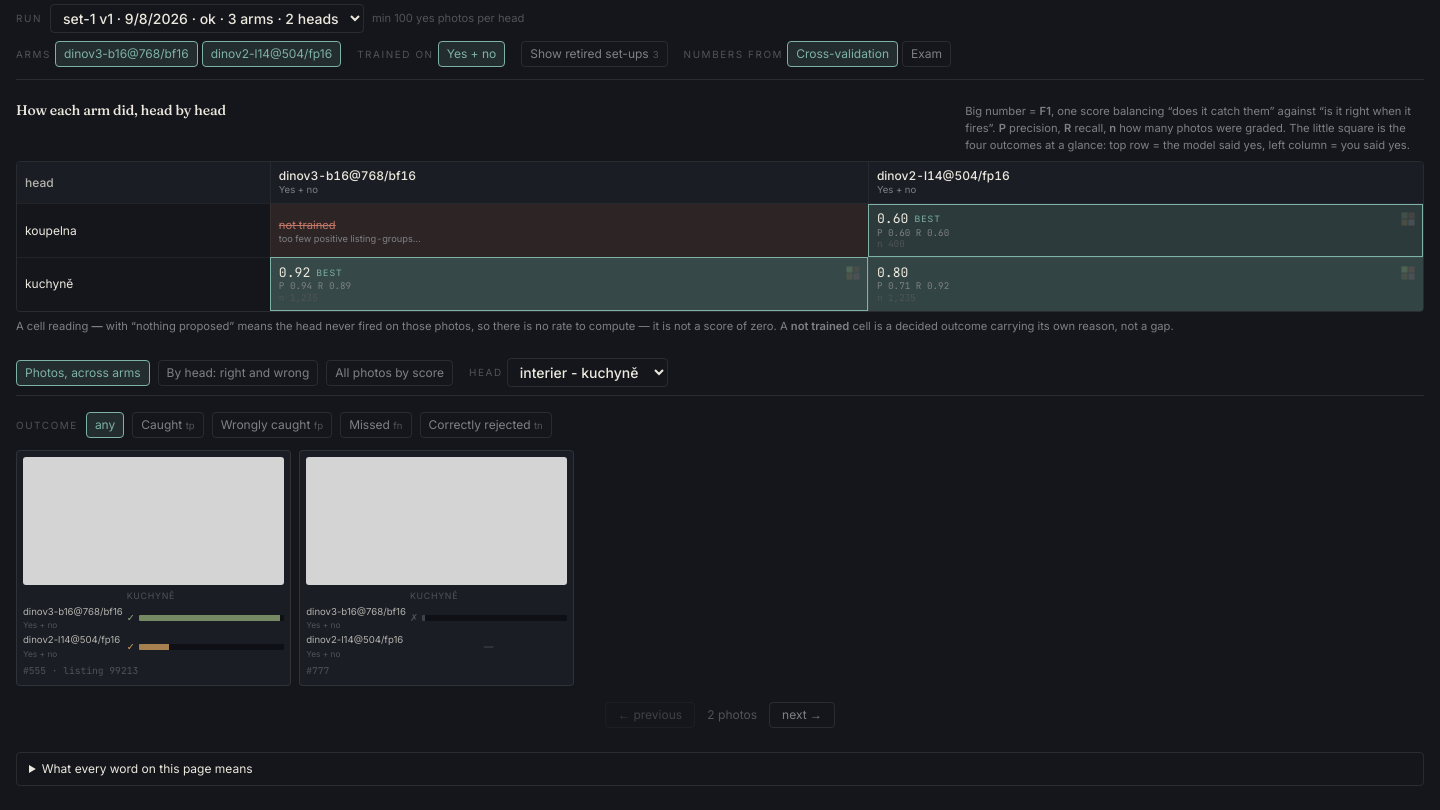
Test: <NewDedupTaggingBakeoff> — view A, photos across arms › pages forward on the cursor the API returns, and back on its own stack
(page scrolled)
Expected: the button with test id "page-prev" is disabled, [605,702,695,728]
Click the button with test id "page-next" at (802, 715), box [769,702,835,728]
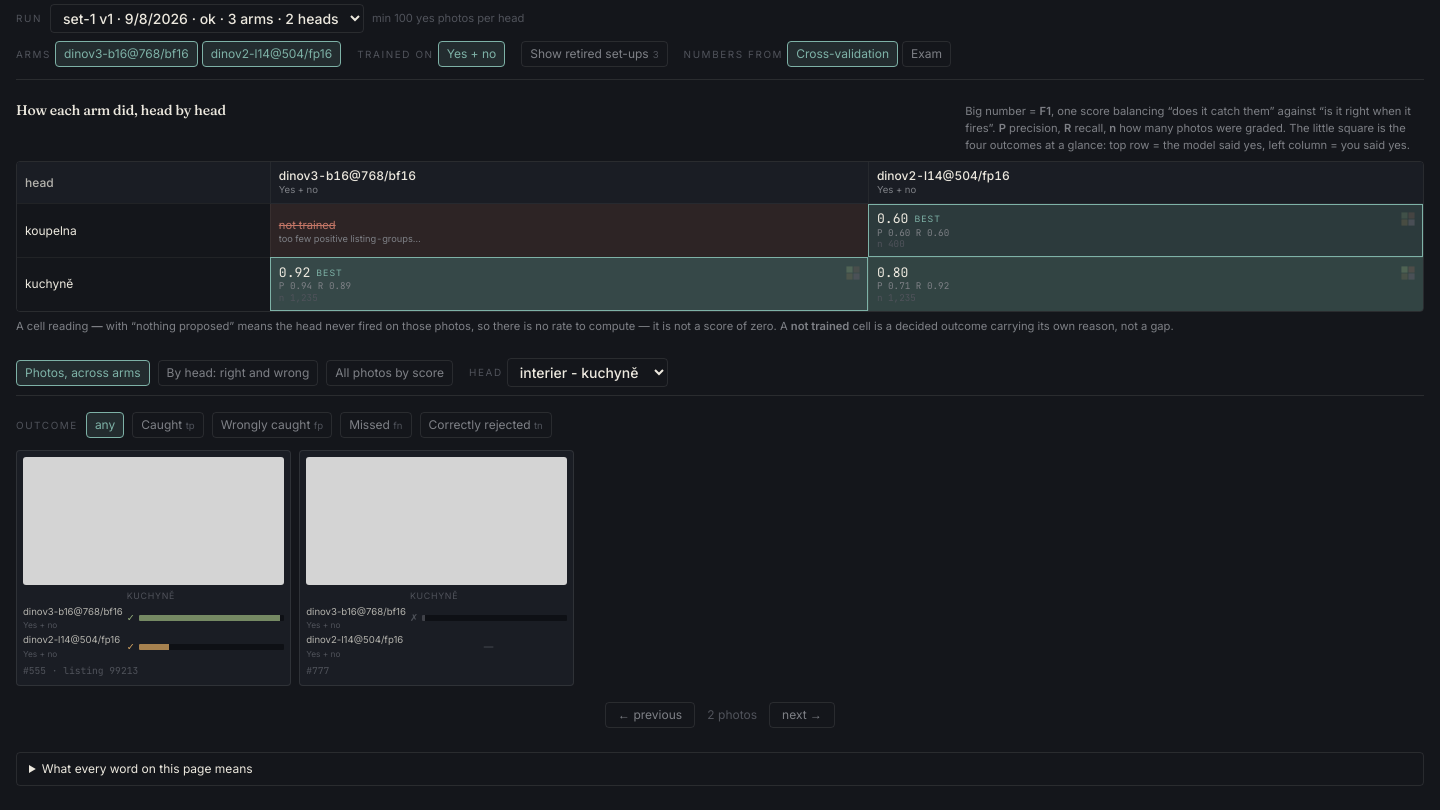
Result: the button with test id "page-prev" is enabled at [605,702,695,728]
